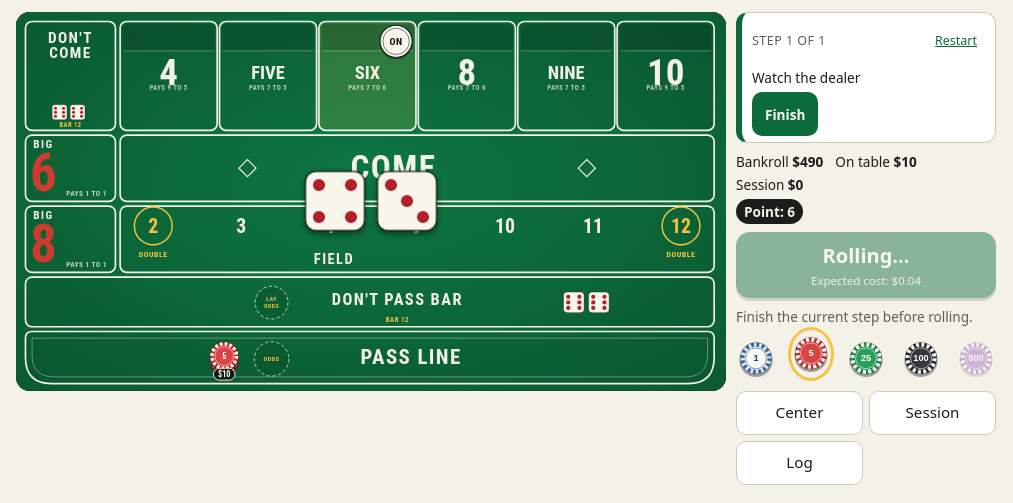
demo steps › a tap while the last roll is still animating skips that animation and ends the demo
Click the element with test id "simulator" at [506, 249], box top-left (16, 12), bottom-right (996, 485)
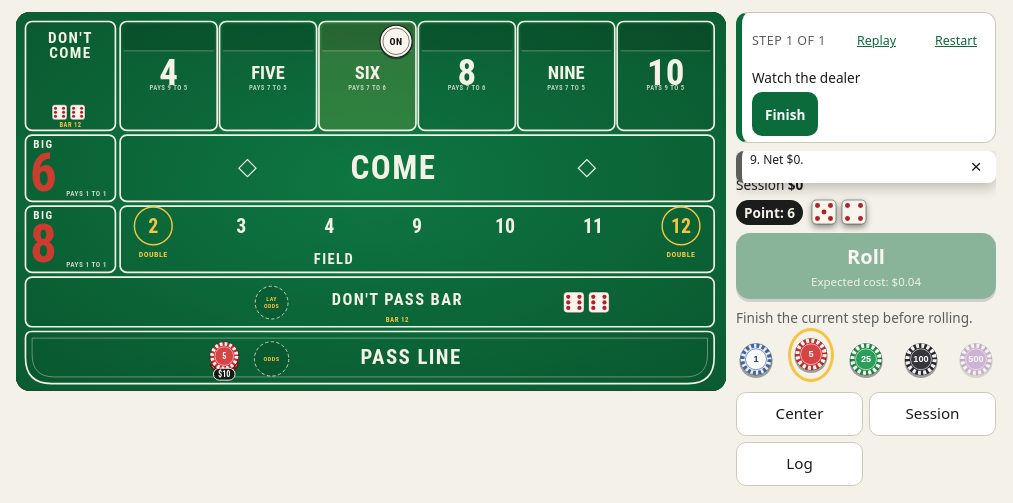
Now the button with aria-label "Replay the demo" is shown, box top-left (849, 19), bottom-right (904, 63)
